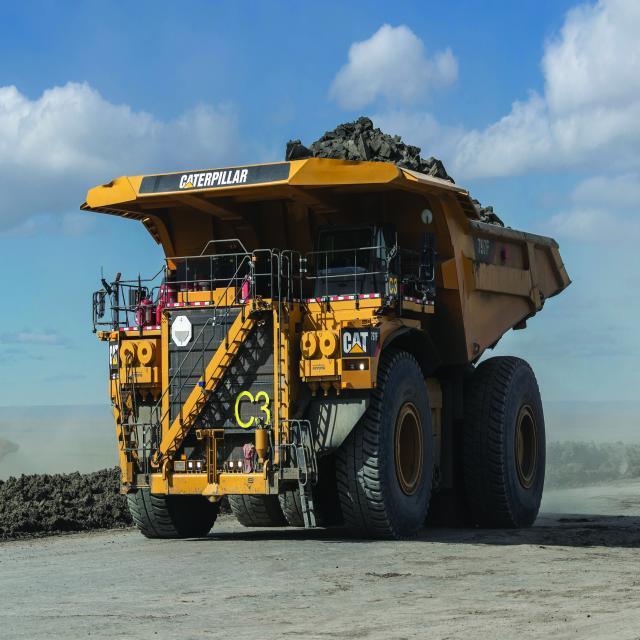dump_truck: (75, 113, 571, 535)
